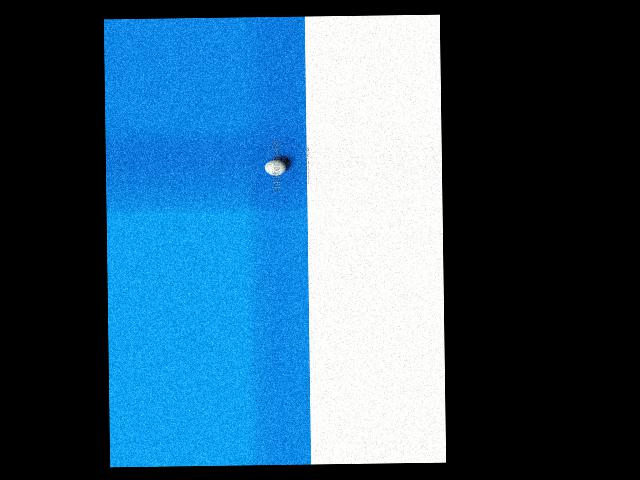egg: (264, 159, 286, 175)
